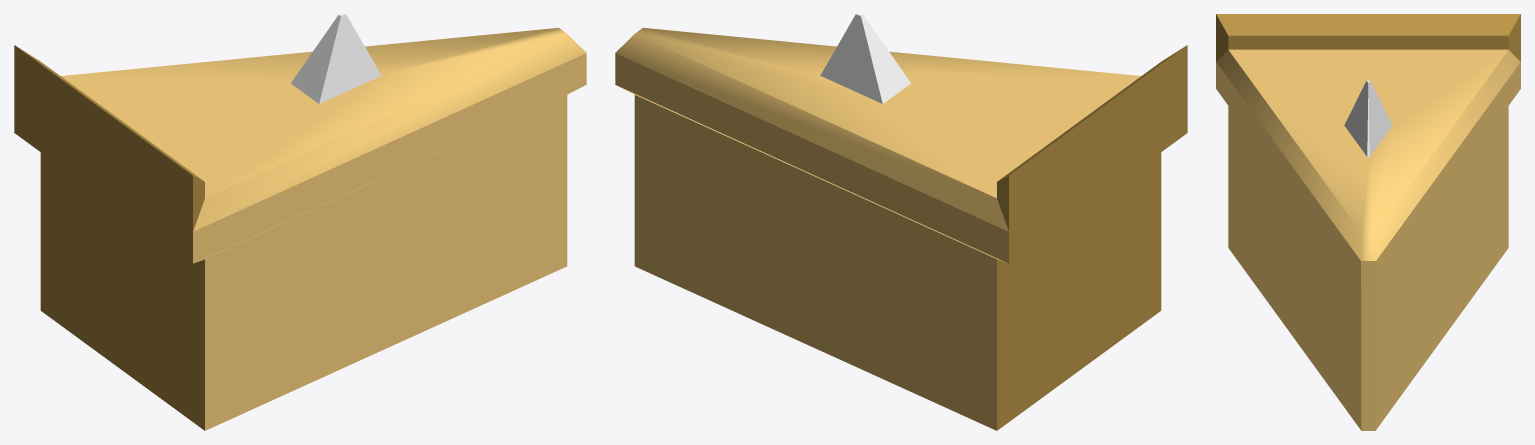
The model's file is Unwrapped_pie.fbx.
3 renders of one model, left to right at view 1: azimuth 30°, elevation 25°; view 2: azimuth 150°, elevation 25°; view 3: azimuth 270°, elevation 25°, orthographic. The views are drawn at different scales.
Parts seen in each view (by area): view 1: Box003; view 2: Box003; view 3: Box003.
Part boxes in pixels (left/top/right/bottom): Box003: left=14, top=14, right=586, bottom=430; Box003: left=615, top=14, right=1187, bottom=430; Box003: left=1216, top=14, right=1520, bottom=430.
Size of the model in its own units: 36.24 by 21.87 by 23.44.
